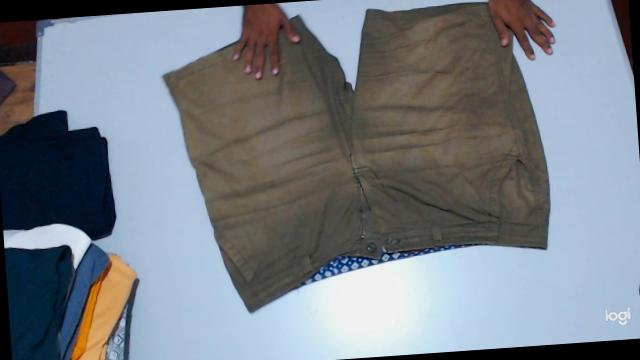new-garment: (163, 2, 549, 310)
